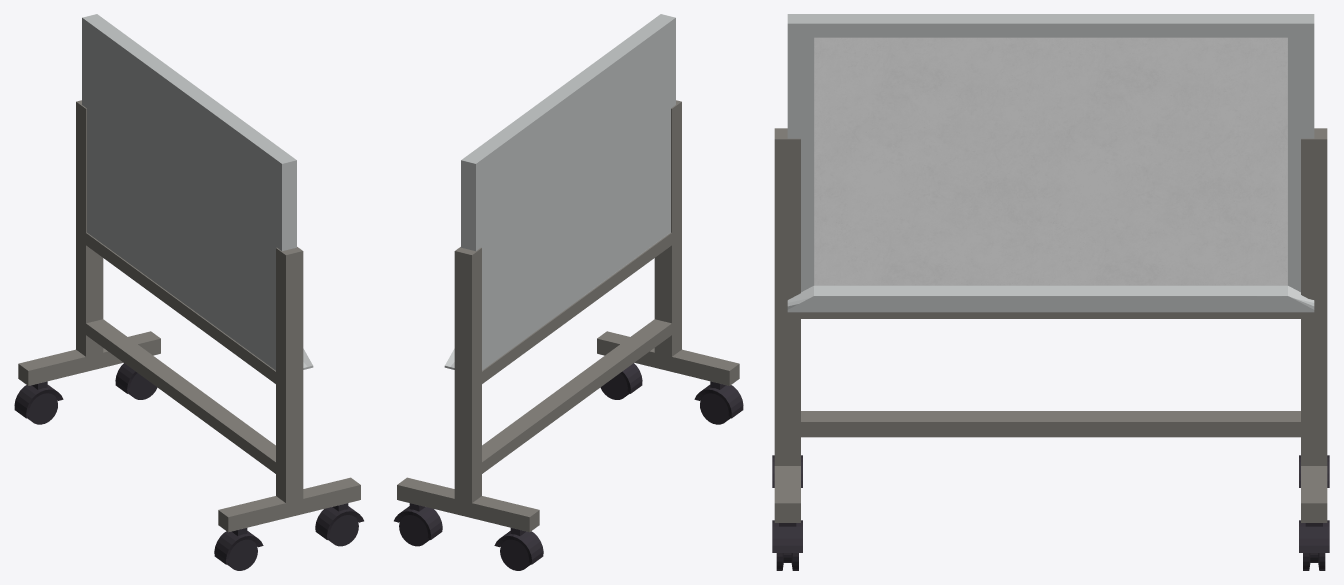
File: whiteboardv3Textured.fbx
3 views of the same model, side by side, from view 1: azimuth 30°, elevation 25°; view 2: azimuth 150°, elevation 25°; view 3: azimuth 270°, elevation 25° (orthographic). The views are drawn at different scales.
Parts seen in each view (by area): view 1: Whiteboard, Dolly, NewWheel, NewWheel2.001, Wheel, NewWheel2; view 2: Whiteboard, Dolly, NewWheel2.001, NewWheel, NewWheel2, Wheel; view 3: Whiteboard, Dolly, Wheel, NewWheel2.
Boxes of the visible parts, <box> form: Whiteboard: <box>82,14,313,370</box>; Dolly: <box>18,100,360,532</box>; NewWheel: <box>214,528,263,570</box>; NewWheel2.001: <box>14,381,63,424</box>; Wheel: <box>315,503,363,546</box>; NewWheel2: <box>115,363,157,399</box>; Whiteboard: <box>444,14,675,370</box>; Dolly: <box>397,100,739,532</box>; NewWheel2.001: <box>494,528,543,570</box>; NewWheel: <box>694,381,743,424</box>; NewWheel2: <box>394,503,442,546</box>; Wheel: <box>600,363,642,399</box>; Whiteboard: <box>787,14,1314,312</box>; Dolly: <box>774,128,1327,522</box>; Wheel: <box>772,520,802,570</box>; NewWheel2: <box>1299,520,1329,570</box>.
Size of the model in its own units: 480 by 1302 by 1270.
